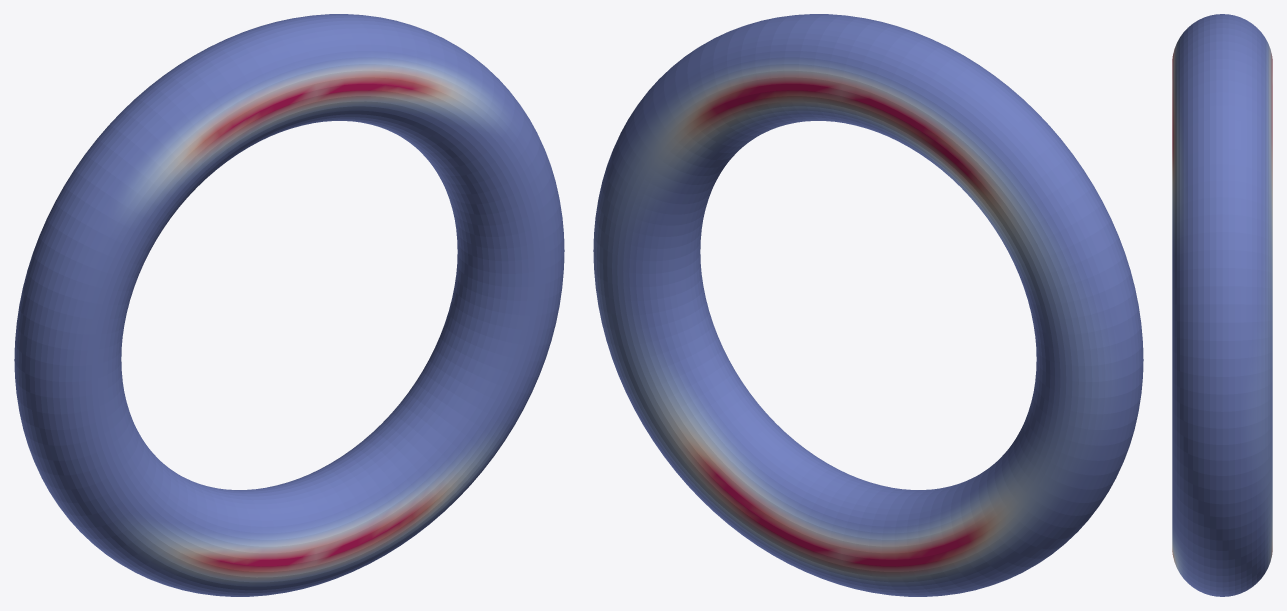
The picture shows the model from 3 angles, left to right: view 1: azimuth 30°, elevation 25°; view 2: azimuth 150°, elevation 25°; view 3: azimuth 270°, elevation 25°; orthographic projection. The views are drawn at different scales.
Parts seen in each view (by area): view 1: world; view 2: world; view 3: world.
Boxes of the visible parts, box(x1,y1,x2,y2) form: world: box(14, 14, 564, 596); world: box(593, 14, 1143, 596); world: box(1172, 14, 1272, 596).
Bounding box in the file's own units: 17.73 × 17.73 × 3.06.
